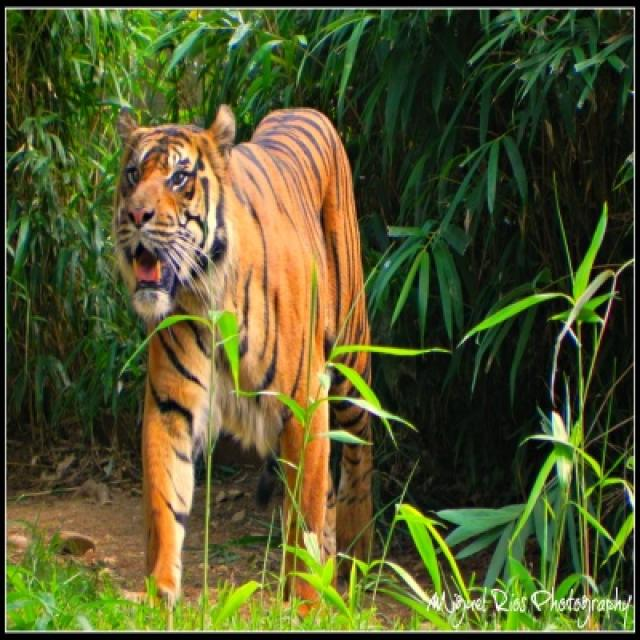Tiger: (106, 102, 378, 610)
